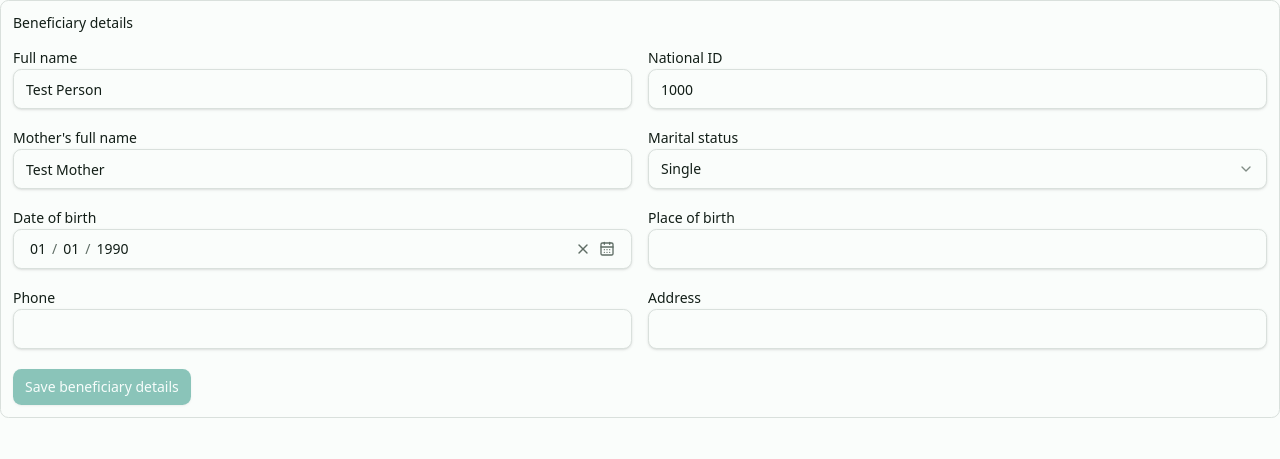
Scenario: ClientDetailsPanel field errors › marks the field the server rejected and shows why, instead of failing silently
The image size is (1280, 459).
Type "0770" into the field labelled "Phone" at coordinates (322, 329), box top-left (13, 309), bottom-right (632, 349)
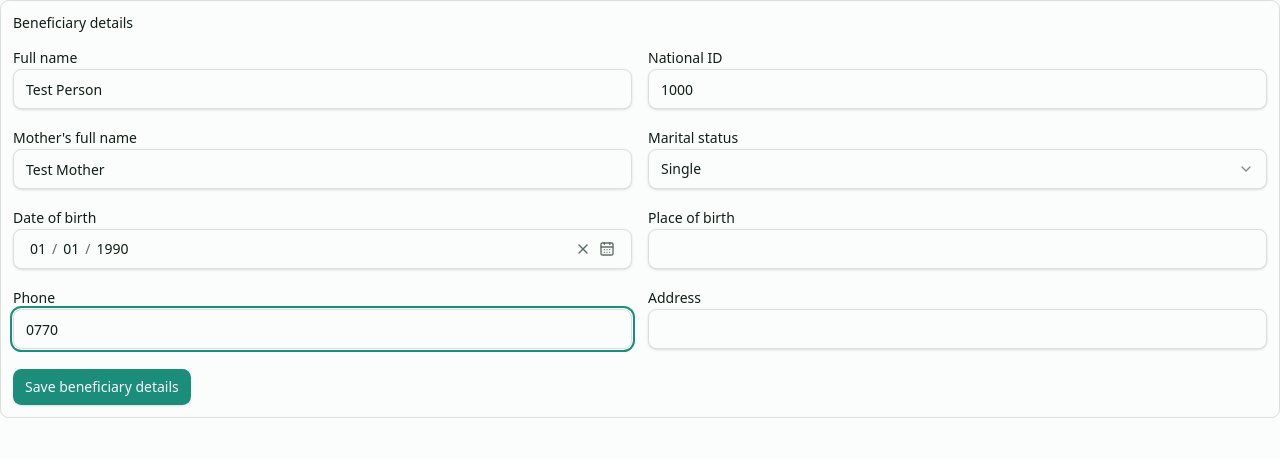
Click the button "Save beneficiary details" at coordinates (102, 387), box top-left (13, 369), bottom-right (191, 405)
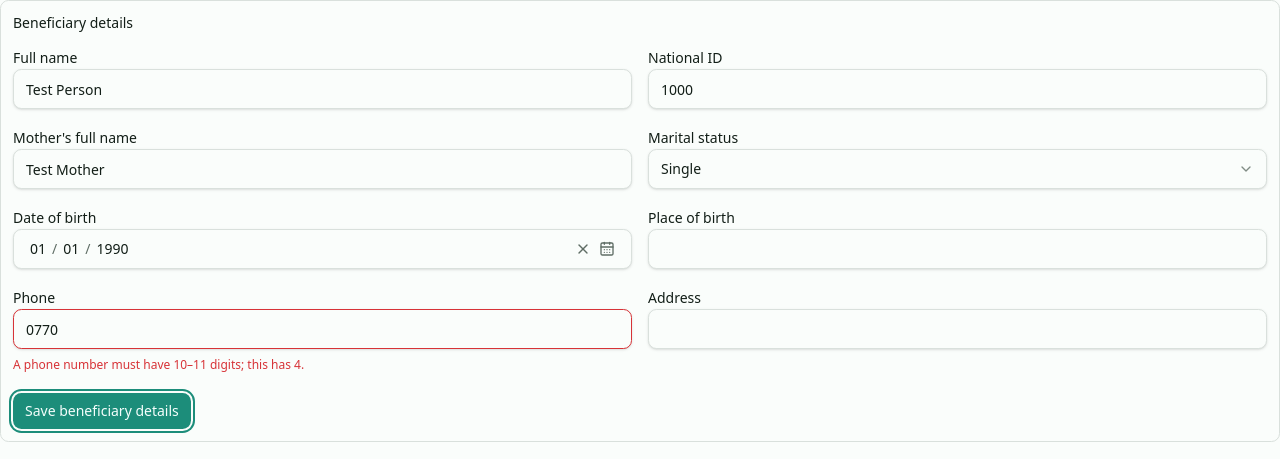
expect the message shows "10–11 digits": met, box top-left (13, 356), bottom-right (304, 373)
